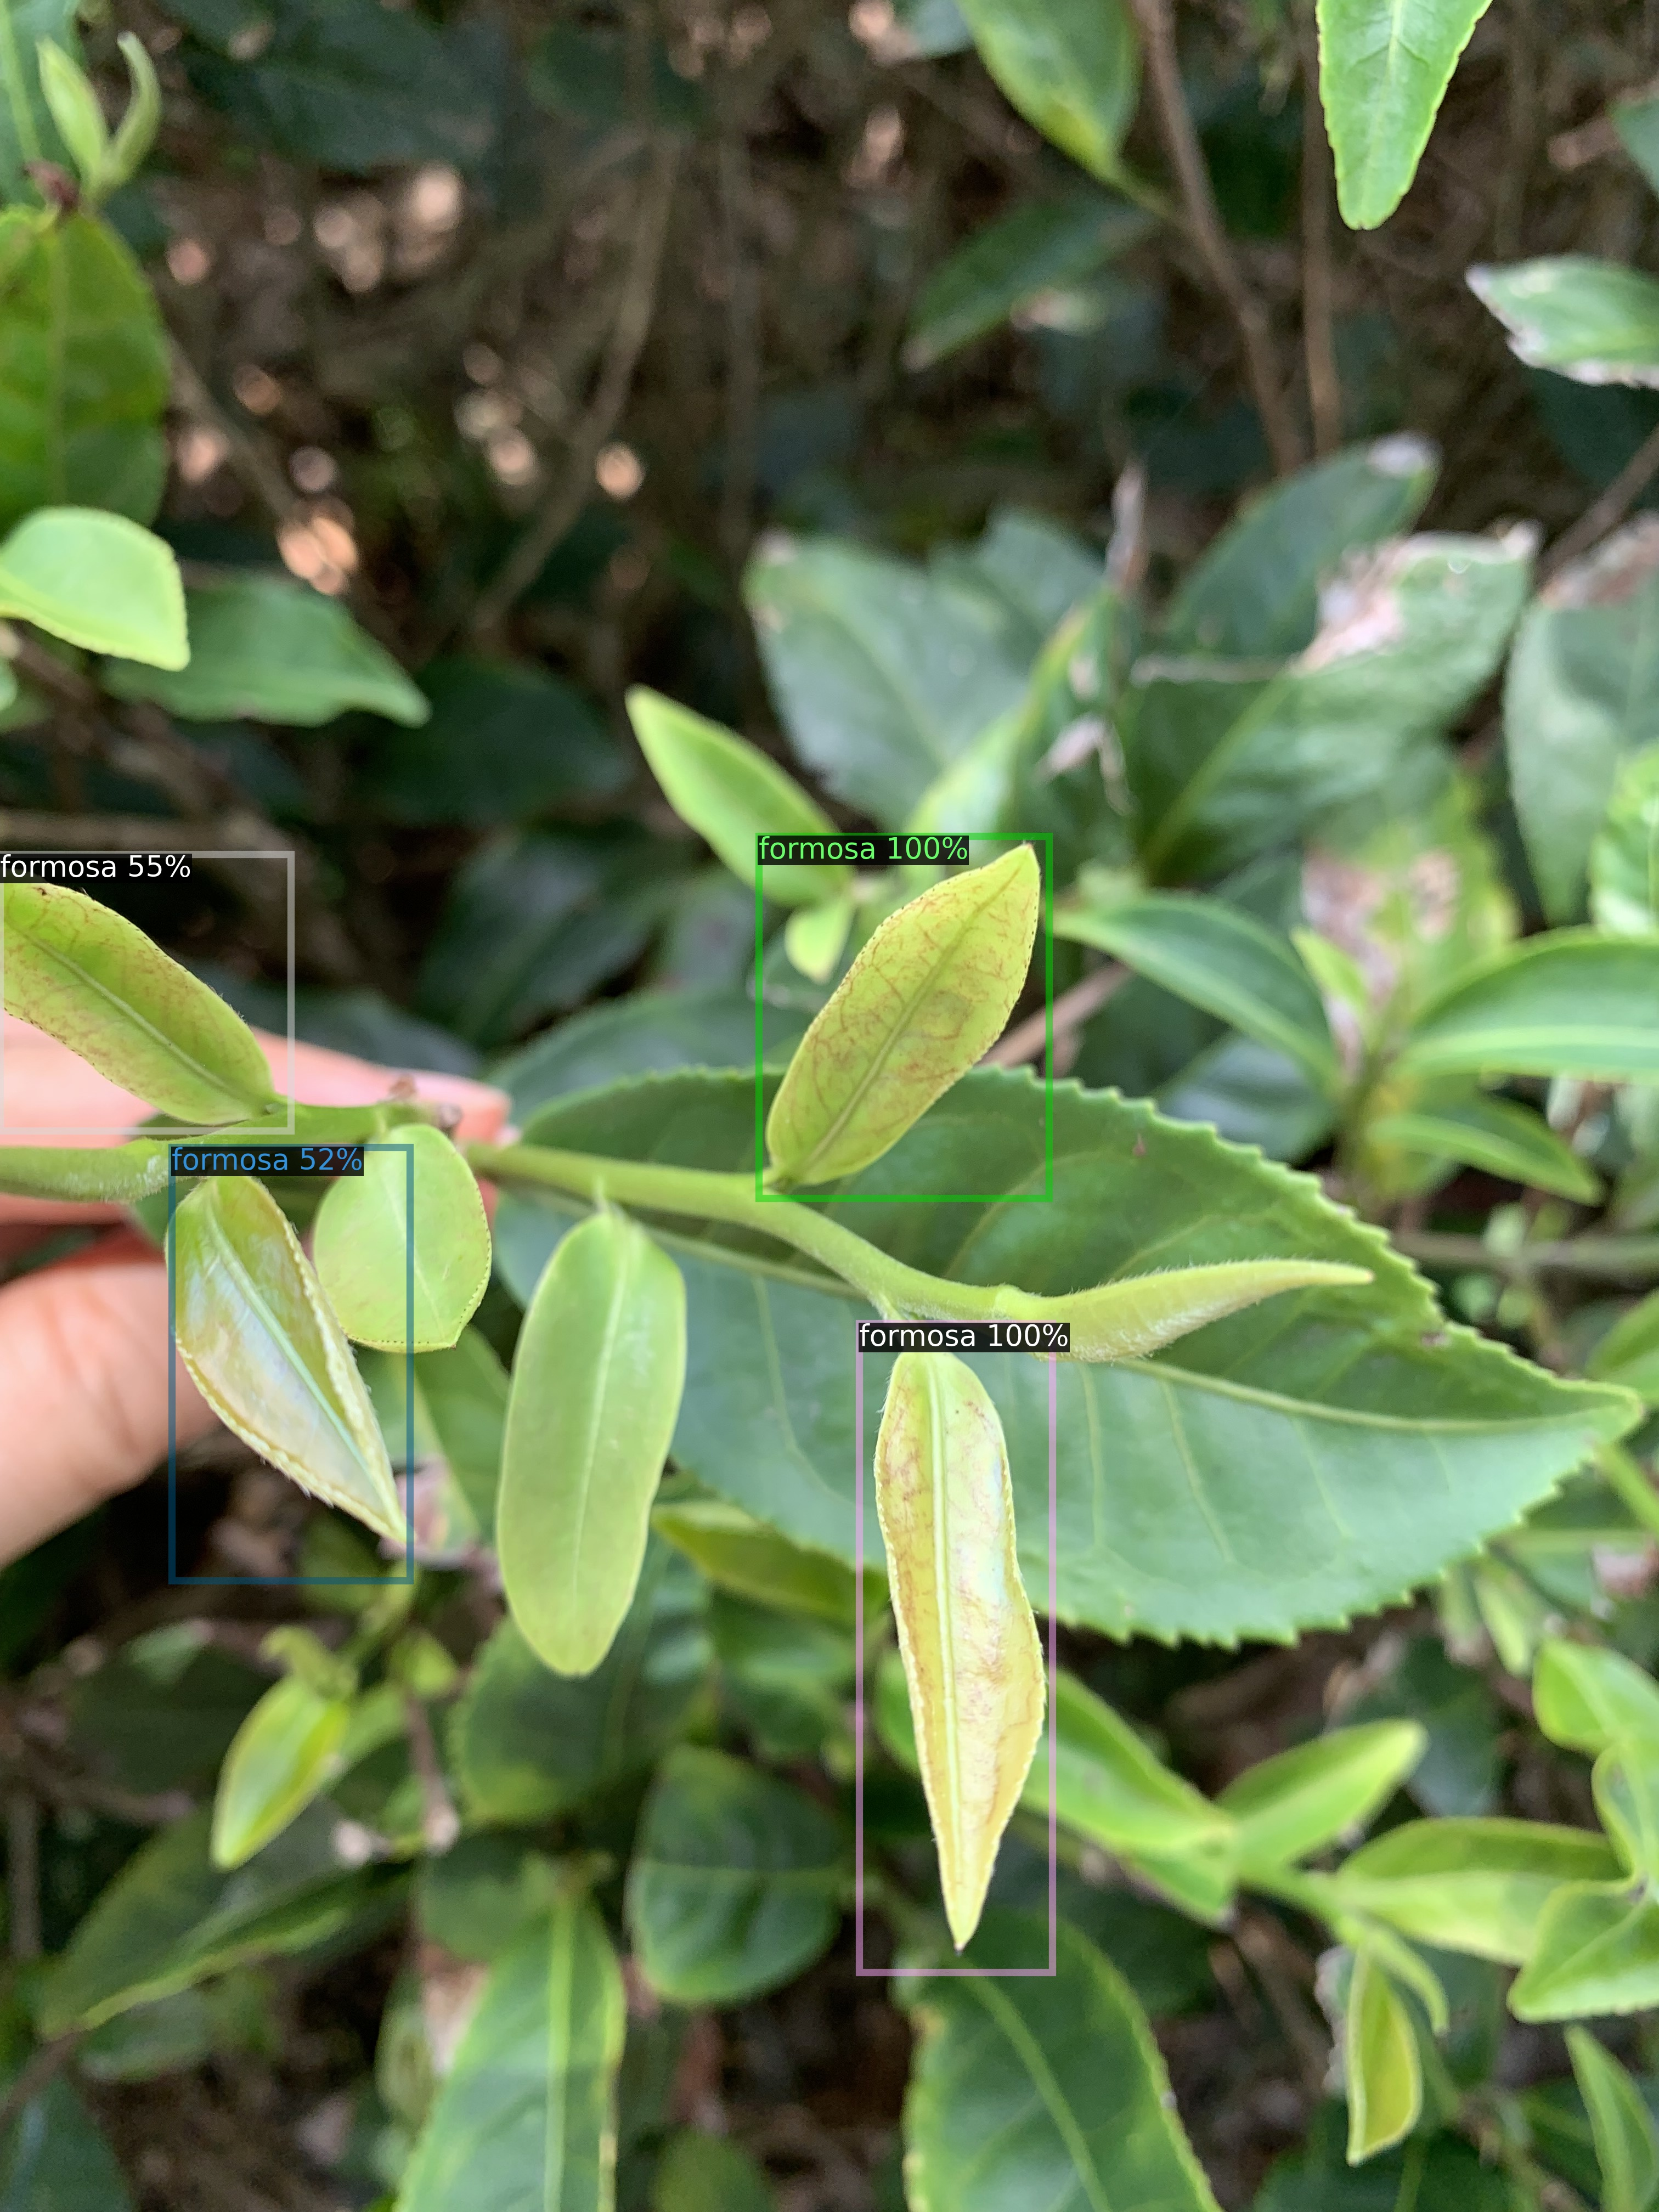formosa: (859, 1322, 1053, 1972), (758, 836, 1049, 1198), (171, 1148, 410, 1580), (0, 853, 291, 1130)
